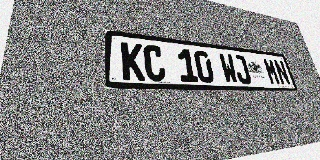0: (193, 50, 215, 83)
1: (176, 48, 199, 82)
C: (143, 44, 166, 81)
J: (232, 54, 252, 84)
K: (121, 42, 145, 81)
M: (262, 58, 281, 85)
N: (273, 59, 291, 85)
W: (218, 53, 239, 84)
